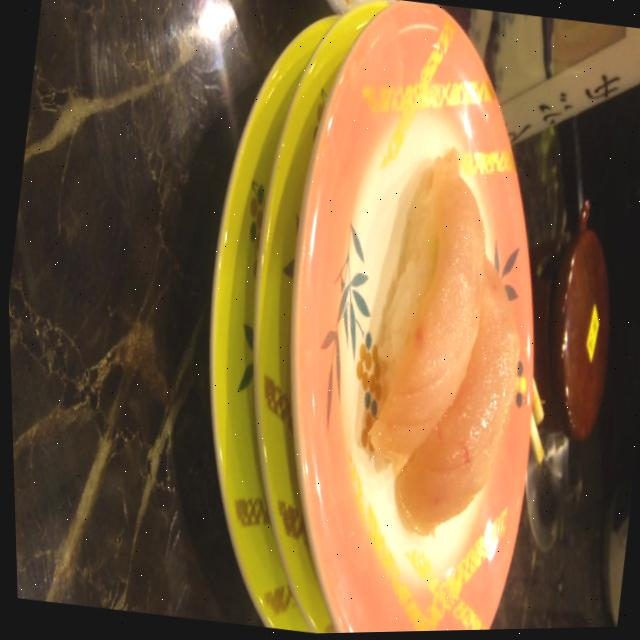寿司卷物: (254, 0, 589, 636)
